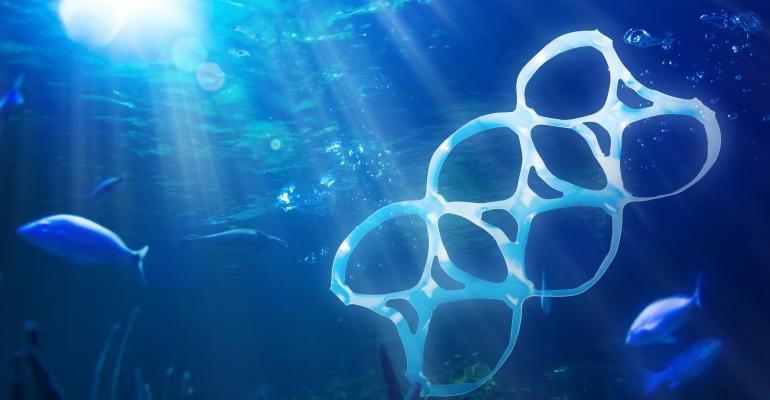litter: (296, 31, 729, 399)
